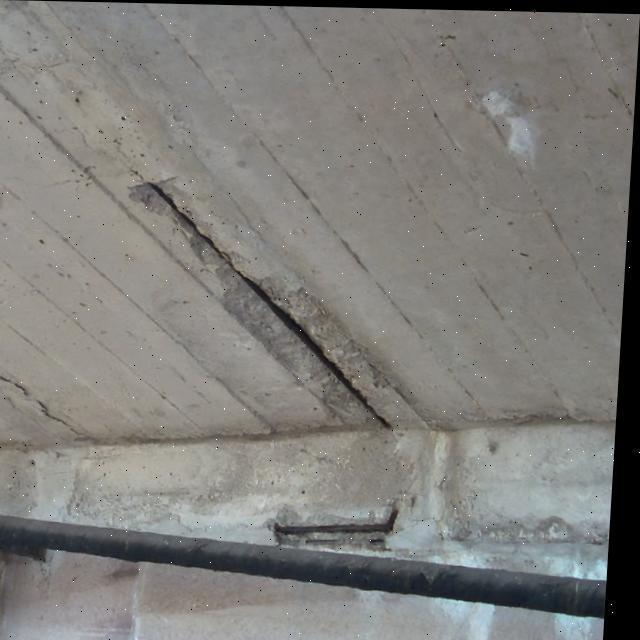D0w0: (138, 178, 394, 433)
